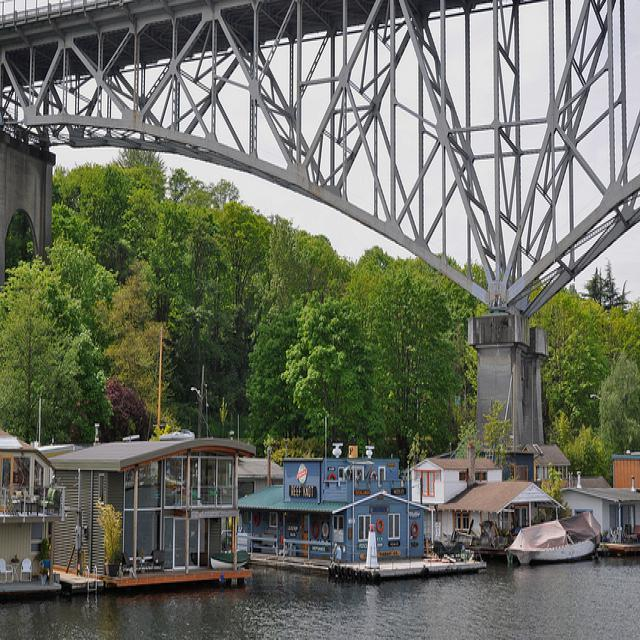obstacle: (335, 545, 342, 560)
